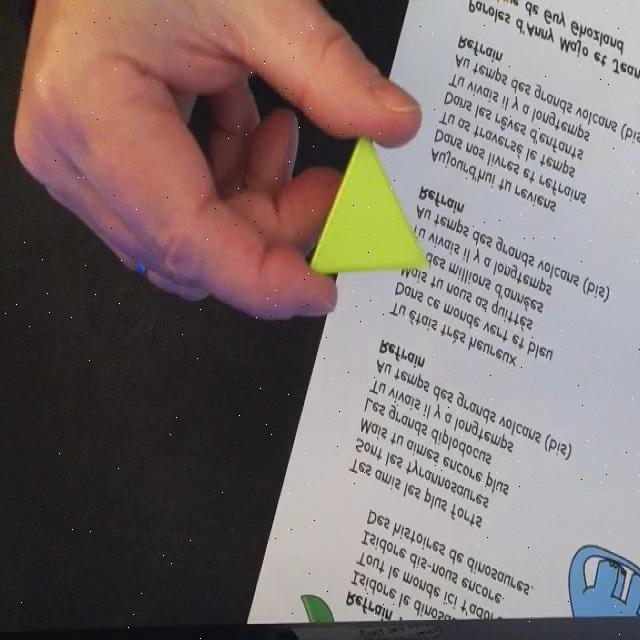triangle: (306, 133, 426, 279)
